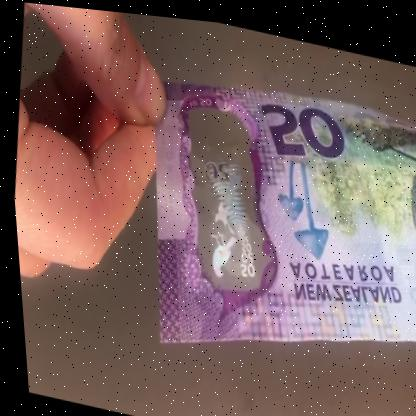50B: (177, 114, 270, 284)
